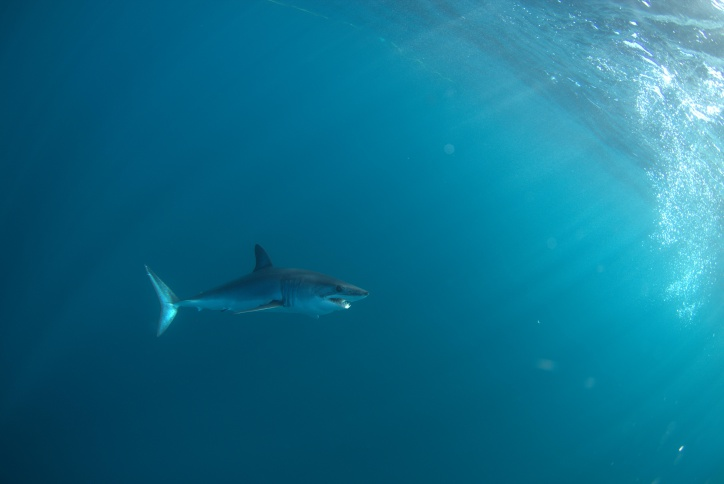Mako: (139, 239, 379, 343)
